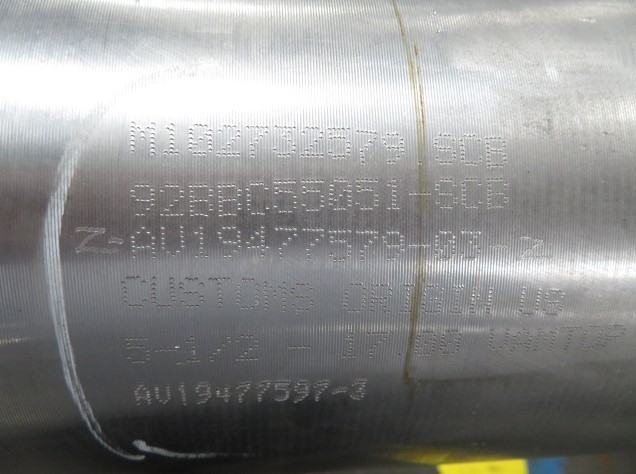character: (68, 225, 120, 255), (119, 333, 153, 373), (212, 222, 245, 263), (515, 232, 556, 265), (465, 281, 498, 320), (126, 180, 158, 220), (117, 272, 149, 312), (380, 125, 409, 169), (352, 126, 381, 169), (128, 117, 158, 158), (271, 222, 300, 264), (149, 270, 178, 312), (178, 270, 207, 312), (233, 272, 262, 314), (183, 121, 214, 160), (289, 277, 319, 317), (242, 119, 271, 160), (430, 128, 458, 170), (158, 225, 188, 264), (158, 180, 187, 220), (187, 180, 216, 220), (243, 180, 272, 220), (232, 331, 266, 365), (214, 119, 242, 160), (127, 225, 158, 262), (337, 278, 368, 315), (433, 173, 459, 217), (484, 131, 511, 173), (326, 225, 354, 265), (272, 177, 298, 220), (416, 281, 446, 318), (326, 175, 353, 216), (514, 281, 543, 319), (298, 122, 326, 161), (298, 177, 326, 216), (216, 180, 243, 220), (245, 222, 271, 263), (354, 224, 380, 265), (359, 328, 391, 361), (458, 226, 485, 265), (203, 333, 232, 369), (459, 173, 485, 213), (207, 272, 233, 312), (271, 122, 298, 160), (353, 175, 380, 213), (300, 225, 326, 264), (380, 224, 406, 263), (262, 277, 289, 314), (458, 131, 484, 169), (432, 227, 458, 265), (188, 222, 212, 263), (326, 124, 352, 161), (158, 118, 182, 158), (438, 325, 466, 359), (368, 279, 394, 315), (485, 177, 512, 211), (543, 285, 569, 319), (413, 324, 438, 359), (179, 333, 203, 369), (394, 279, 416, 318), (486, 323, 511, 357), (383, 176, 404, 214), (511, 324, 534, 357), (603, 320, 628, 350), (534, 324, 558, 355), (446, 281, 465, 320), (348, 371, 369, 406), (558, 323, 580, 355), (192, 379, 214, 409), (130, 382, 154, 409), (272, 374, 291, 408), (580, 323, 603, 350), (235, 378, 254, 409), (154, 380, 174, 409), (309, 377, 329, 406), (291, 374, 309, 406), (214, 379, 234, 406), (254, 378, 272, 408), (341, 331, 359, 361), (174, 380, 192, 409), (406, 189, 432, 203), (330, 385, 349, 400), (488, 242, 511, 254), (285, 343, 314, 352), (407, 240, 432, 250), (152, 346, 178, 355), (107, 235, 124, 245), (415, 158, 425, 169), (394, 352, 405, 360)
